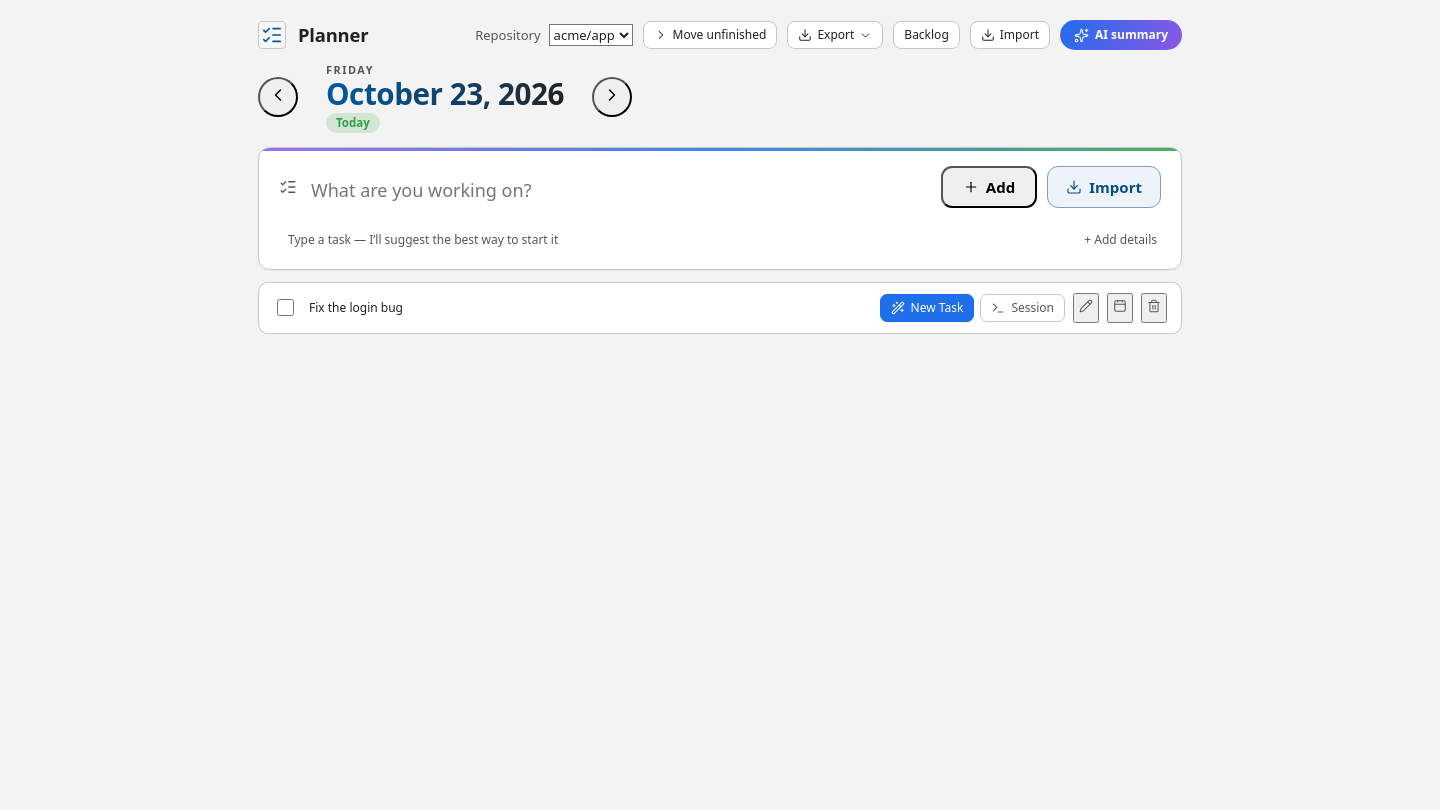
Test: PlannerView › generates and renders an AI summary for the selected scope
Step 1. Click the button "AI summary" → (1121,35), box [1060, 20, 1182, 50]
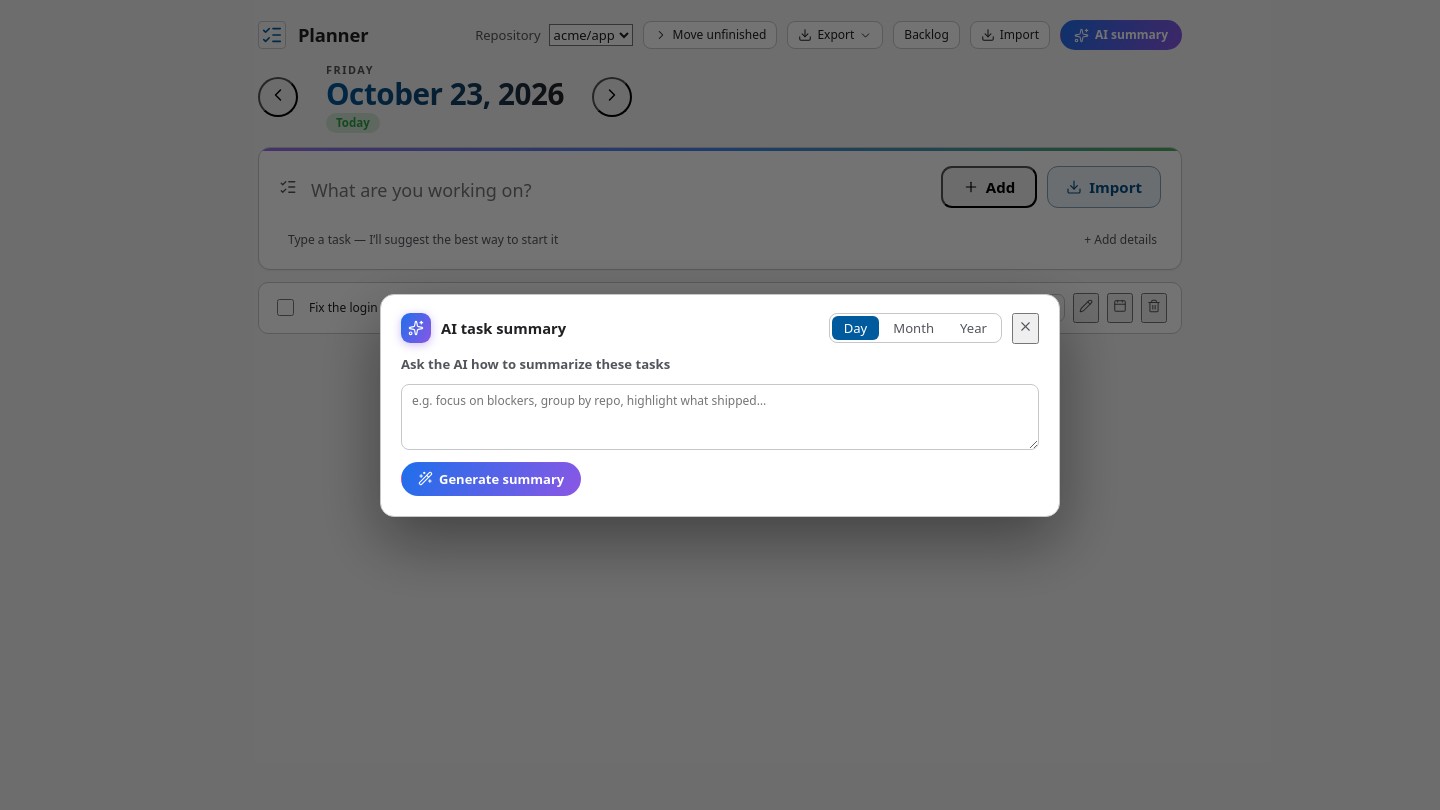
Step 2. Click the tab "Month" → (914,328), box [881, 316, 946, 340]
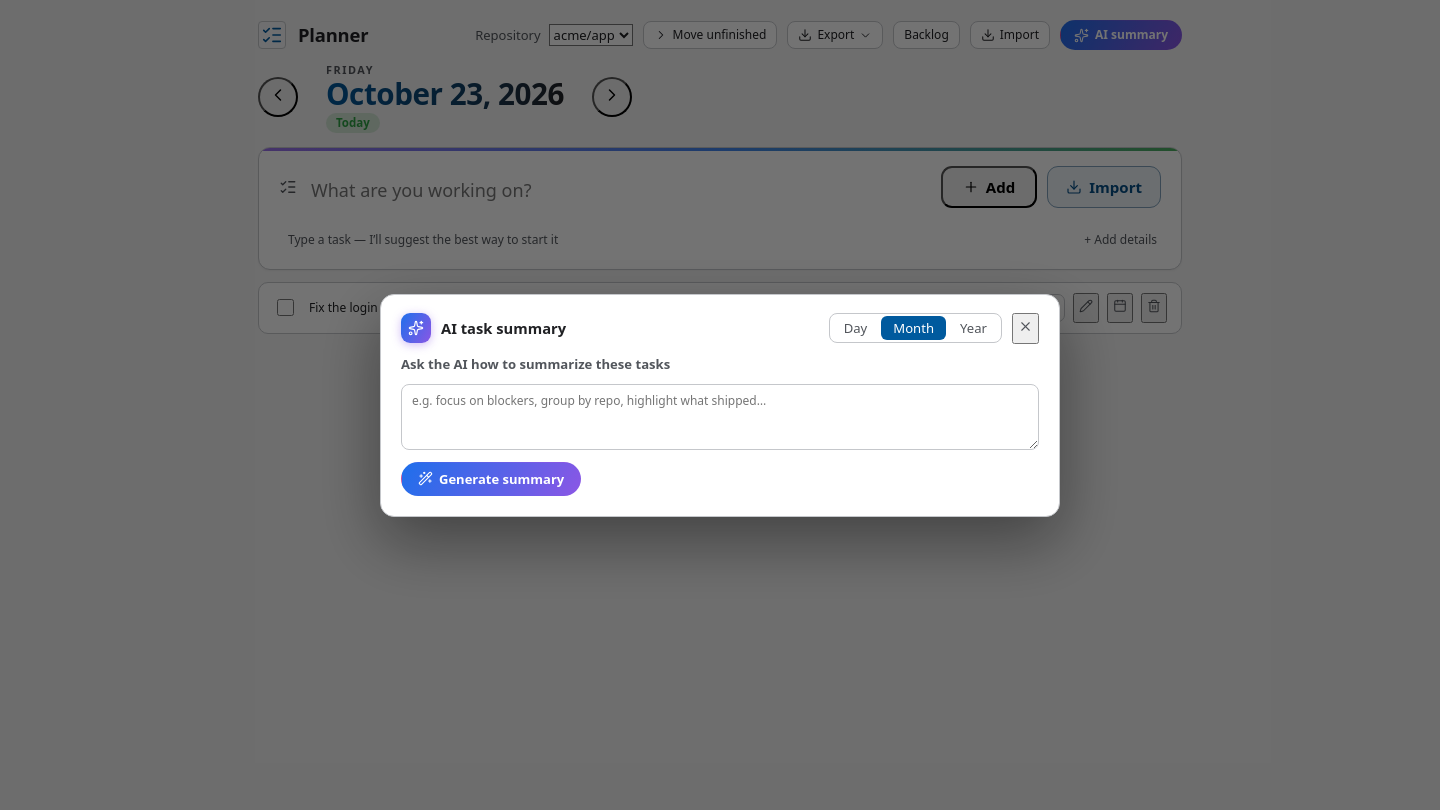
Step 3. Replace the text in the text box named "Summary guidance" with "focus on blockers" → (720,416), box [401, 384, 1039, 450]
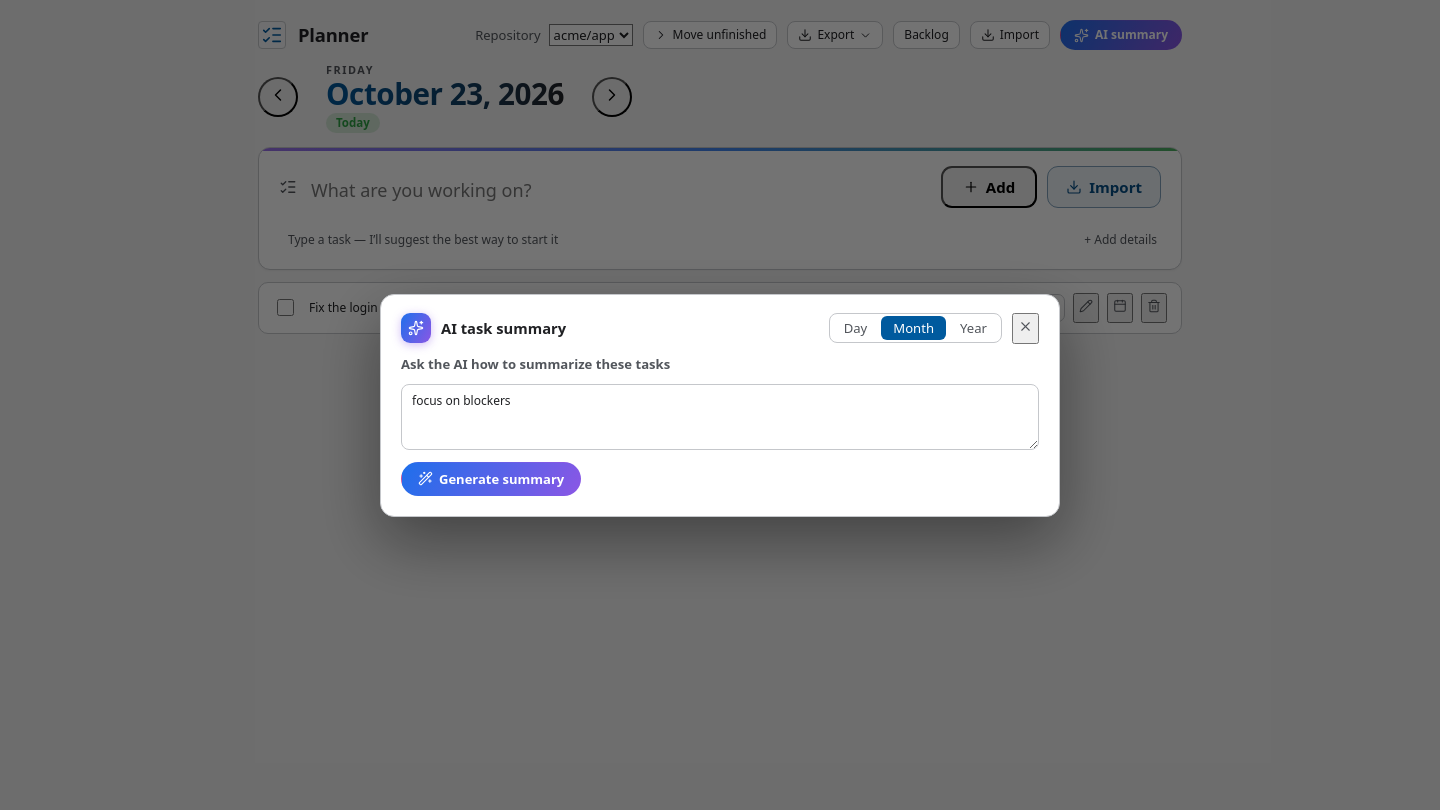
Step 4. Click the button "Generate summary" → (491,478), box [401, 462, 581, 496]
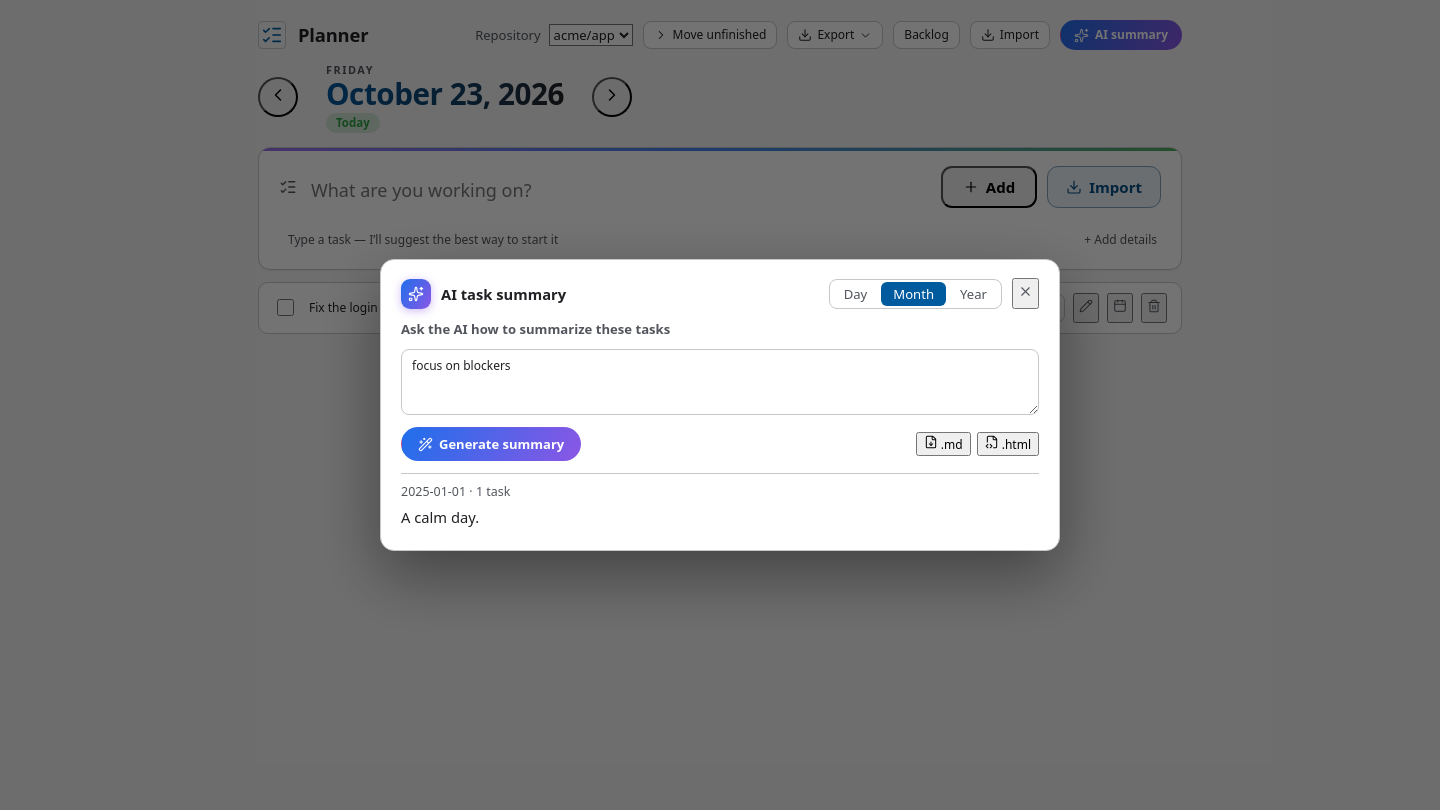
Result: the text "A calm day." is shown at [401, 507, 479, 527]
